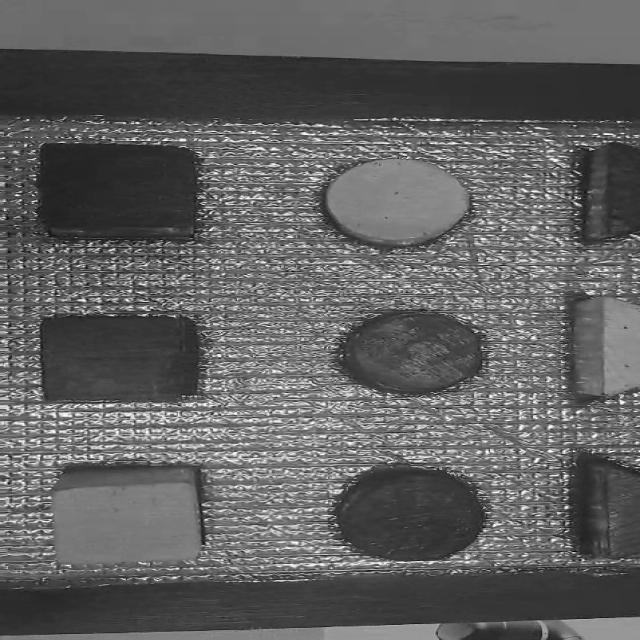bcircle: (310, 459, 500, 571)
bcube: (24, 303, 216, 411)
btriangle: (566, 136, 640, 252)
rcircle: (328, 303, 489, 399)
rcube: (20, 132, 219, 245)
rtriangle: (546, 442, 640, 565)
ycircle: (306, 150, 482, 258)
ycube: (34, 463, 225, 581)
ytriangle: (551, 285, 640, 408)
